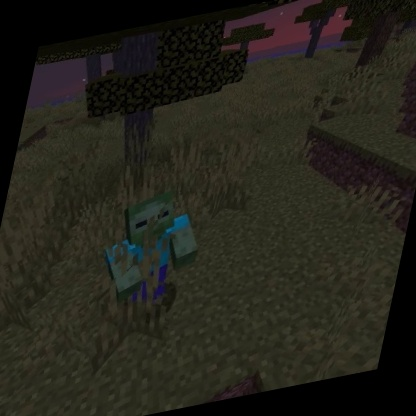zombie: (84, 177, 217, 329)
